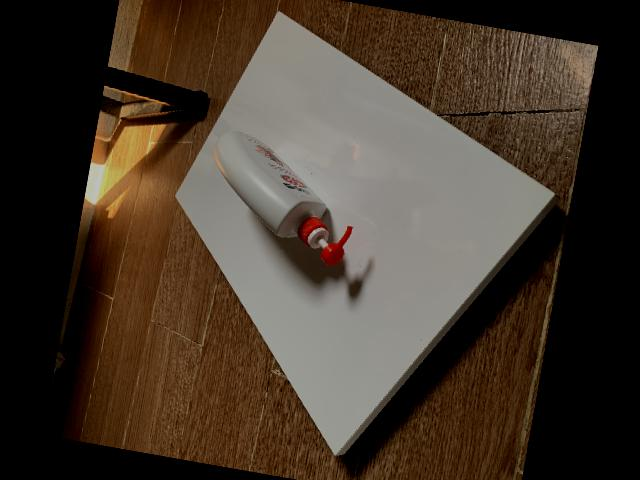life-buoy: (214, 129, 353, 266)
